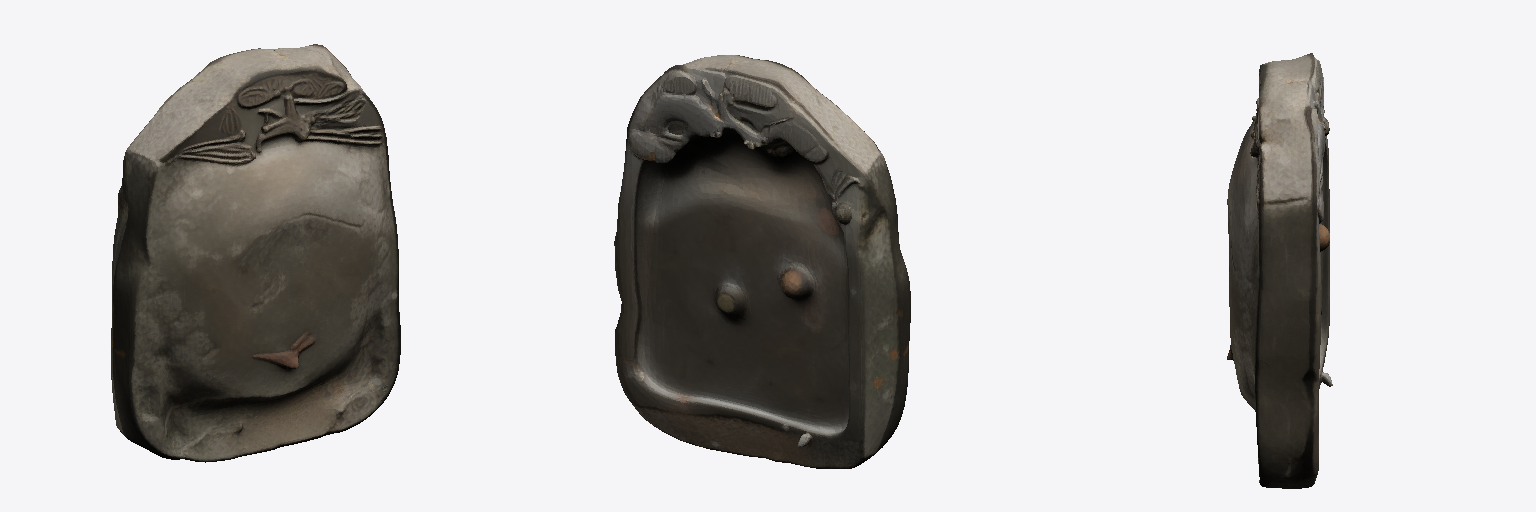
3 renders of one model, left to right at view 1: azimuth 30°, elevation 25°; view 2: azimuth 150°, elevation 25°; view 3: azimuth 270°, elevation 25°, orthographic.
Parts seen in each view (by area): view 1: geometry_0; view 2: geometry_0; view 3: geometry_0.
Part boxes in pixels (x1,y1,x2,y2): geometry_0: (111, 44, 400, 462); geometry_0: (614, 55, 910, 468); geometry_0: (1227, 53, 1332, 488).
Bounding box in the file's own units: 0.7545 × 0.9996 × 0.2495.
1 materials, 1 textured.